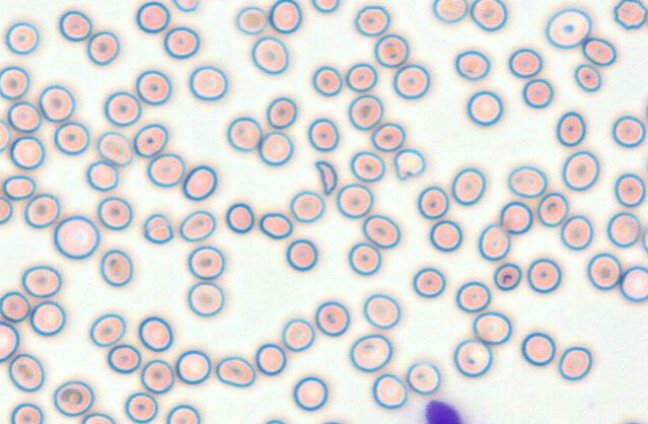RBC: (53, 215, 100, 259), (545, 7, 592, 49), (349, 333, 392, 372), (561, 150, 599, 191), (453, 338, 492, 377), (52, 380, 94, 416), (188, 64, 228, 101), (251, 35, 288, 74), (38, 84, 75, 122), (8, 353, 44, 392), (335, 182, 373, 218), (362, 293, 400, 329), (392, 63, 430, 99), (146, 152, 185, 187), (472, 311, 512, 345), (507, 164, 547, 198), (29, 300, 66, 336), (187, 281, 224, 317), (347, 93, 383, 130), (466, 90, 503, 126), (586, 252, 621, 290), (187, 245, 225, 280), (450, 167, 485, 205), (362, 214, 401, 248), (21, 265, 61, 298), (314, 300, 350, 336), (135, 69, 171, 105), (104, 91, 141, 126), (99, 248, 133, 286), (215, 355, 255, 387), (372, 373, 407, 409), (292, 376, 328, 411), (24, 193, 60, 228), (175, 349, 211, 384), (526, 257, 561, 293), (258, 130, 293, 166), (96, 130, 132, 165), (138, 316, 173, 352), (9, 135, 45, 170), (182, 164, 217, 200), (373, 33, 409, 68), (226, 116, 262, 151), (89, 313, 126, 347), (53, 121, 90, 155), (477, 223, 510, 261), (520, 331, 555, 366), (140, 358, 174, 394), (558, 345, 592, 381), (179, 209, 216, 242), (163, 26, 200, 59), (406, 360, 441, 394), (97, 196, 132, 230), (133, 123, 168, 157), (86, 30, 120, 65), (455, 280, 491, 313), (289, 190, 325, 223), (560, 214, 593, 250), (536, 191, 569, 227), (607, 211, 640, 247), (349, 150, 385, 182), (354, 4, 390, 36), (470, 0, 507, 31), (348, 241, 381, 275), (499, 201, 533, 234), (281, 318, 315, 351), (268, 0, 302, 33), (5, 21, 39, 54), (614, 172, 646, 207), (307, 117, 339, 152), (135, 1, 170, 33), (611, 115, 646, 147), (454, 49, 490, 80), (285, 238, 318, 271), (124, 391, 158, 423), (417, 185, 449, 219), (412, 266, 446, 298), (7, 100, 41, 132), (58, 9, 92, 41), (106, 343, 141, 374), (556, 111, 586, 147), (429, 219, 462, 251), (265, 96, 297, 129), (85, 160, 119, 191), (371, 121, 405, 152), (508, 47, 542, 78), (619, 265, 647, 302), (255, 342, 286, 375), (613, 0, 647, 30), (0, 65, 29, 100), (582, 37, 616, 66), (311, 65, 342, 96), (0, 290, 30, 322), (345, 62, 377, 92), (259, 211, 293, 239), (143, 213, 173, 244), (522, 78, 553, 108), (235, 5, 267, 34), (225, 202, 254, 234), (2, 174, 36, 200), (493, 262, 522, 291), (574, 63, 602, 92), (432, 0, 467, 23), (0, 320, 19, 362), (10, 402, 43, 423), (166, 403, 200, 423), (81, 412, 116, 423), (311, 0, 340, 13), (0, 196, 13, 224), (0, 118, 10, 151), (171, 0, 198, 12), (317, 418, 348, 424), (642, 223, 648, 253), (617, 419, 646, 424), (262, 418, 287, 423), (644, 97, 648, 124), (644, 151, 648, 177)
Schistocyte: (395, 149, 425, 181), (314, 160, 337, 196)
